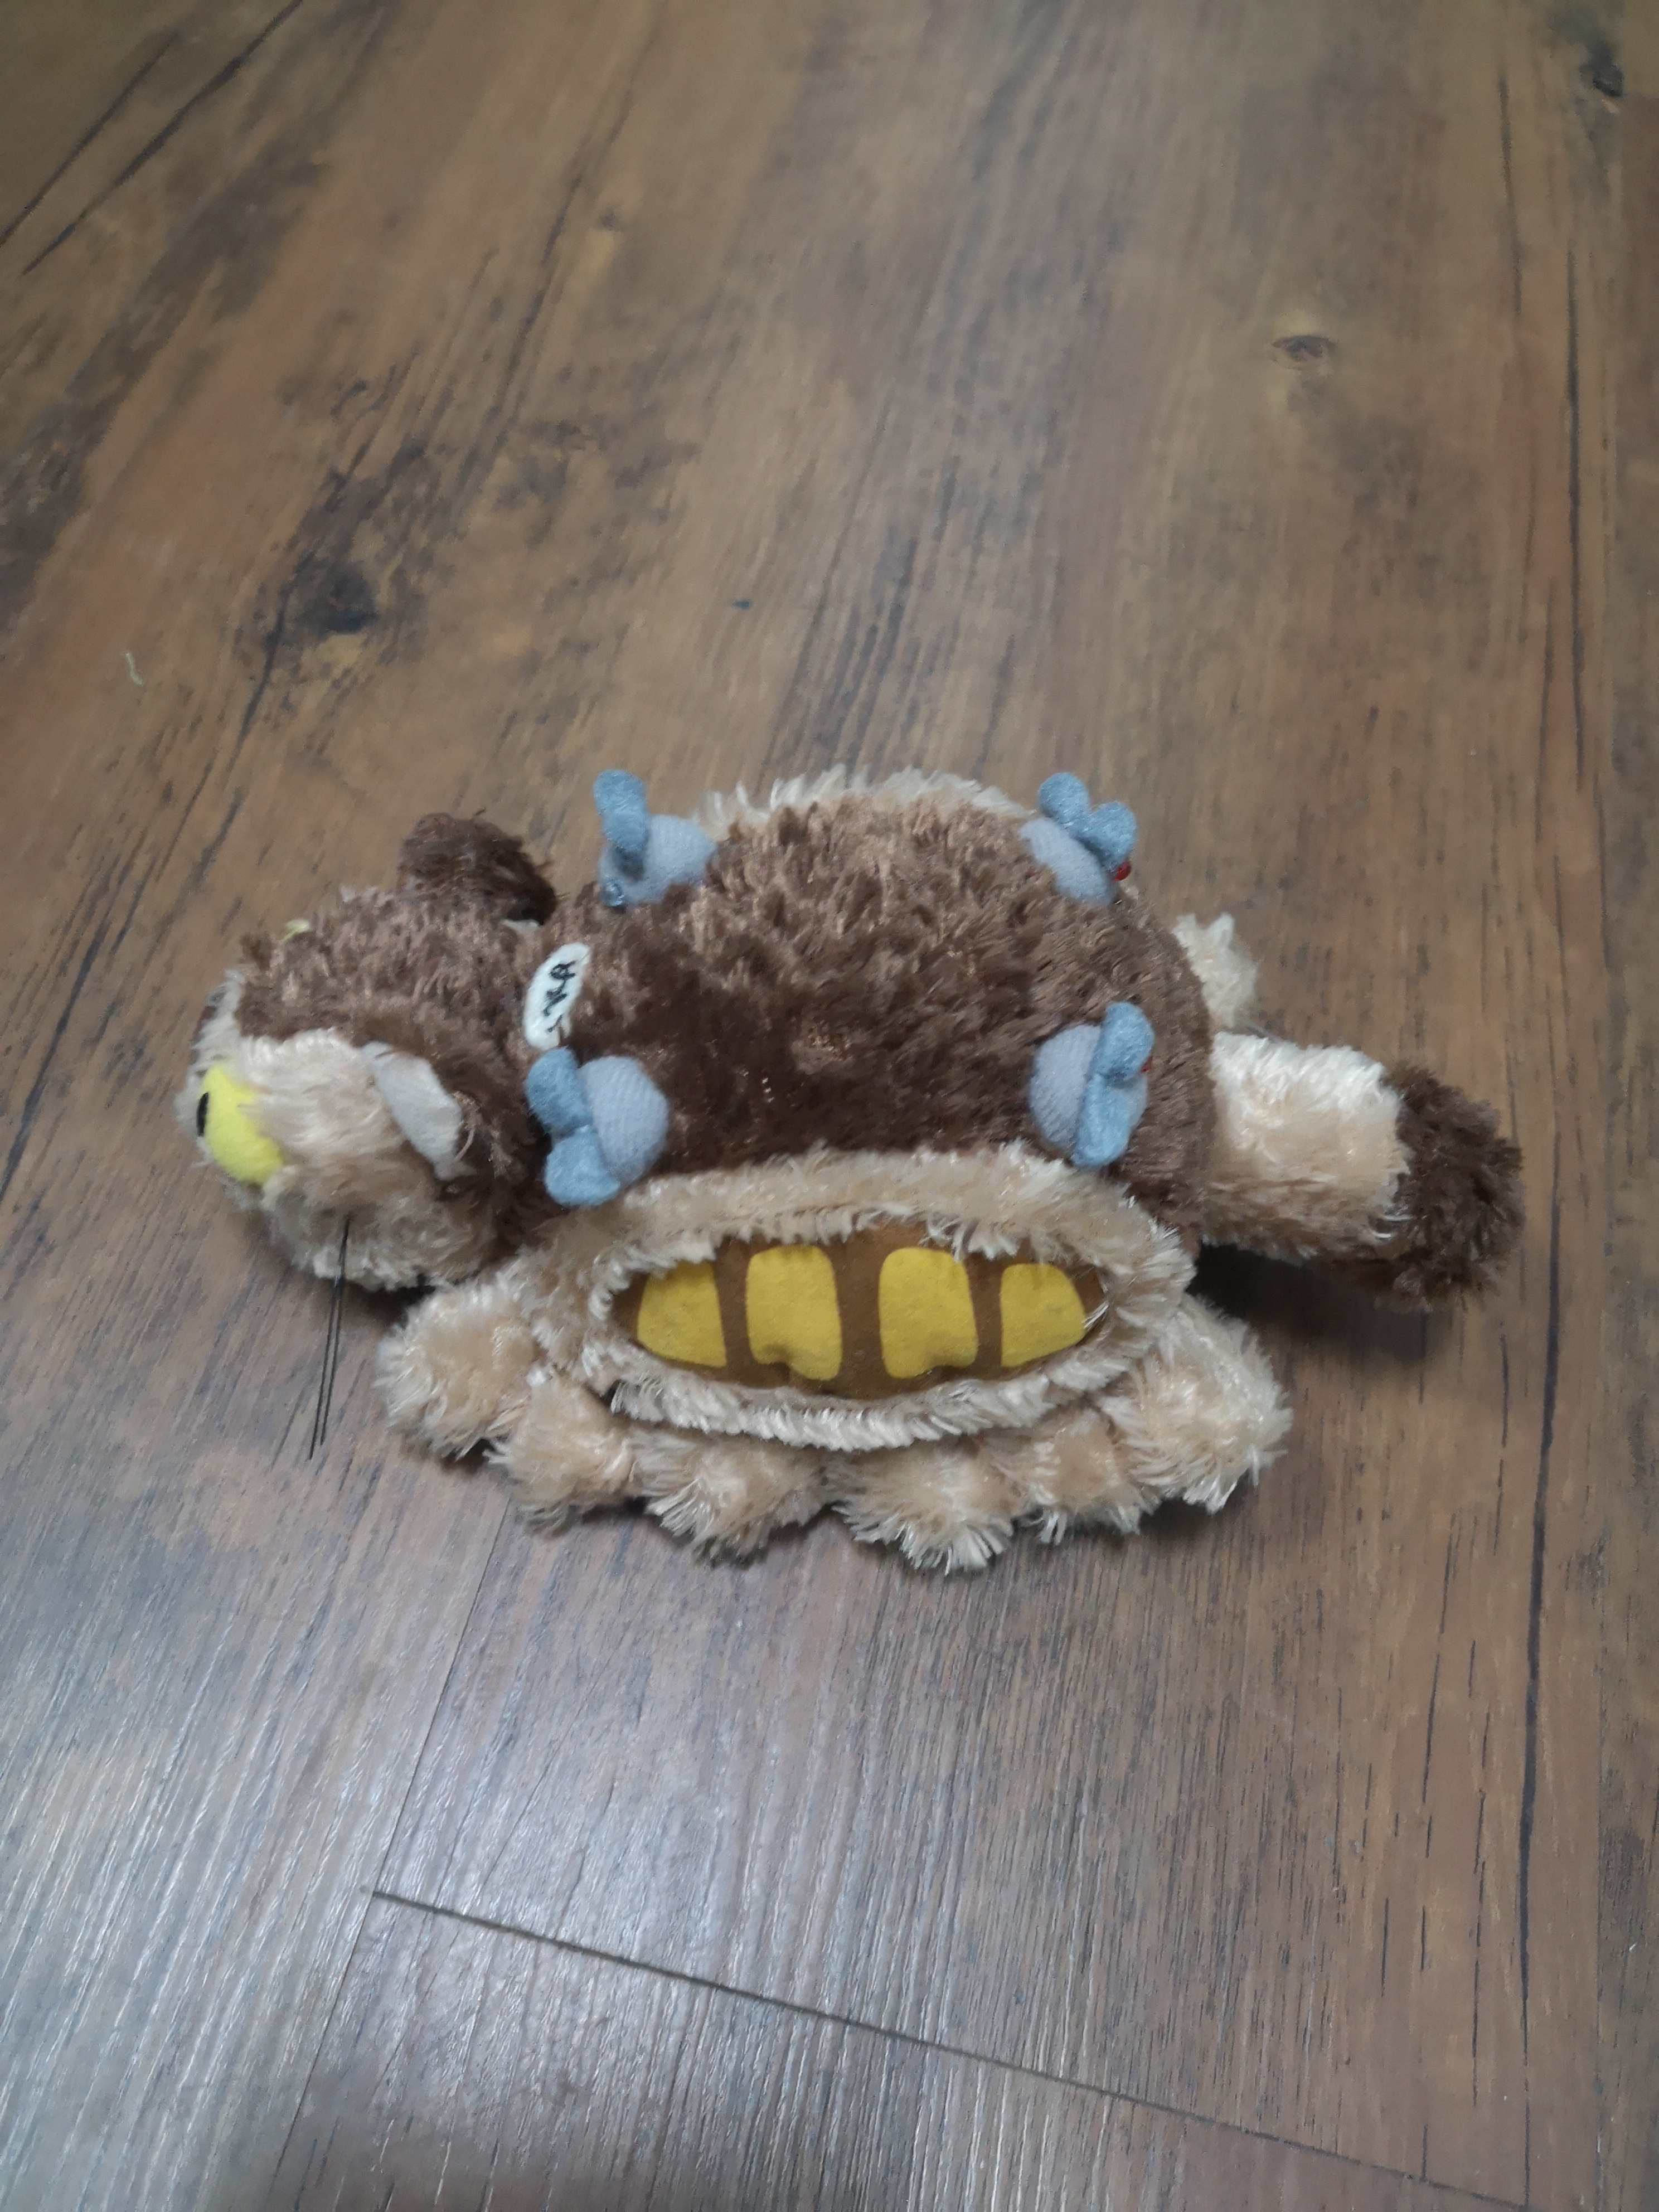nekobus: (159, 758, 1530, 1599)
